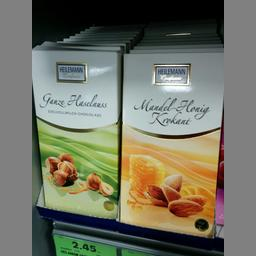chocolate: (118, 50, 222, 236), (31, 45, 119, 216)
